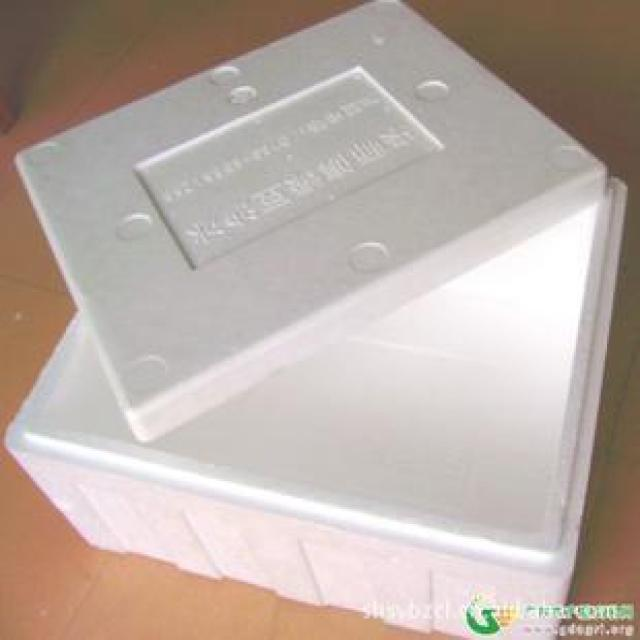styrofoam: (2, 0, 628, 638)
